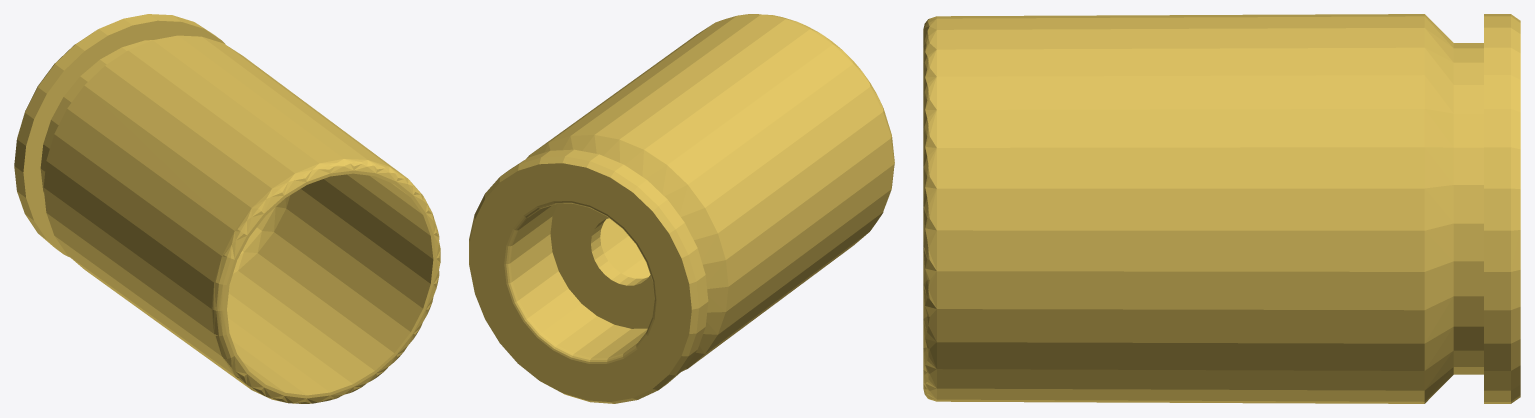
Rendered from Cartridge.fbx.
3 renders of one model, left to right at view 1: azimuth 30°, elevation 25°; view 2: azimuth 150°, elevation 25°; view 3: azimuth 270°, elevation 25°, orthographic. The views are drawn at different scales.
Parts seen in each view (by area): view 1: Body374; view 2: Body374; view 3: Body374.
Part boxes in pixels (left/top/right/bottom): Body374: left=14, top=14, right=440, bottom=403; Body374: left=469, top=14, right=894, bottom=403; Body374: left=923, top=14, right=1520, bottom=403.
Size of the model in its own units: 848 by 849 by 1300.
